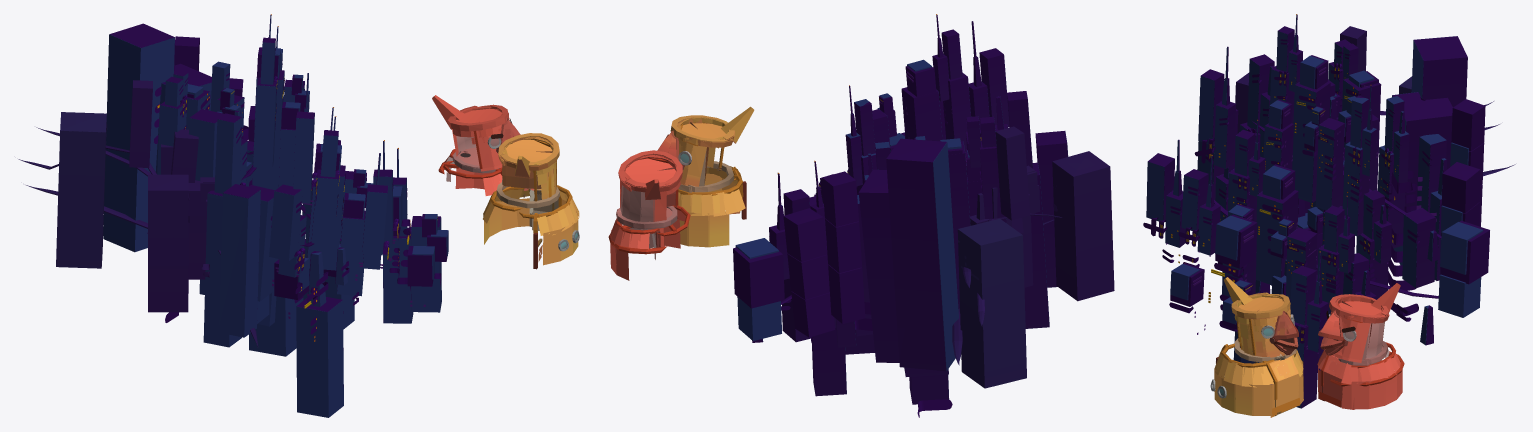
File: Menu_bg.fbx
3 views of the same model, side by side, from view 1: azimuth 30°, elevation 25°; view 2: azimuth 150°, elevation 25°; view 3: azimuth 270°, elevation 25° (orthographic). The views are drawn at different scales.
Parts seen in each view (by area): view 1: Bg; view 2: Bg; view 3: Bg.
Boxes of the visible parts, x1=… form: Bg: x1=18, y1=14, x2=579, y2=417; Bg: x1=608, y1=14, x2=1114, y2=417; Bg: x1=1143, y1=14, x2=1515, y2=417.
Size of the model in its own units: 83.04 by 70.91 by 64.18.
